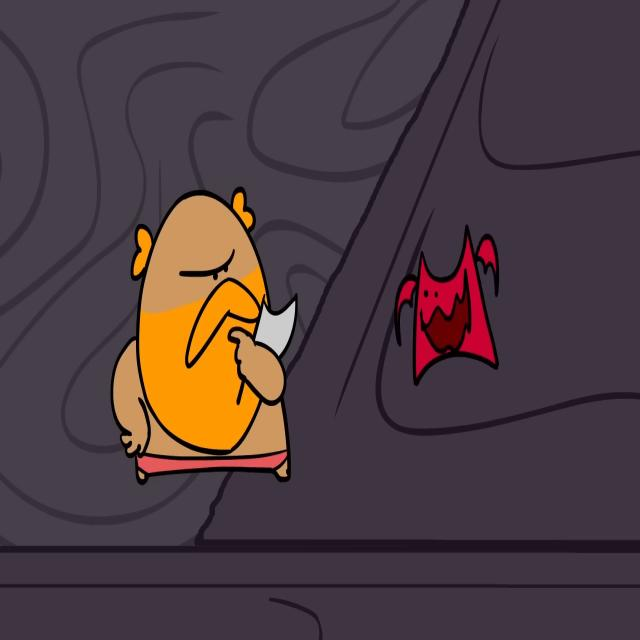Haagen-Daz: (111, 184, 292, 487)
